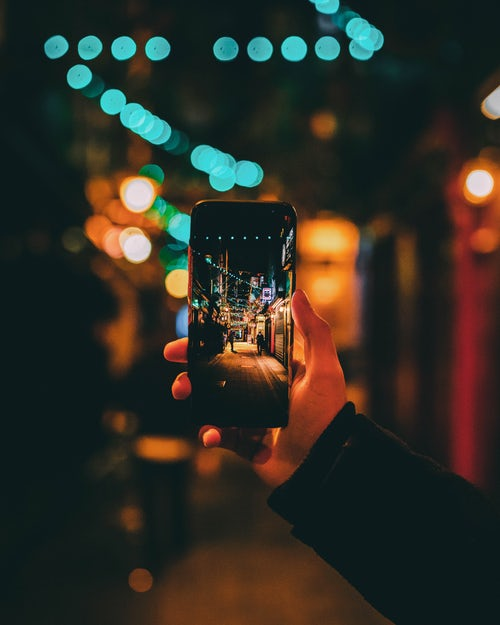phone: (187, 194, 297, 432)
